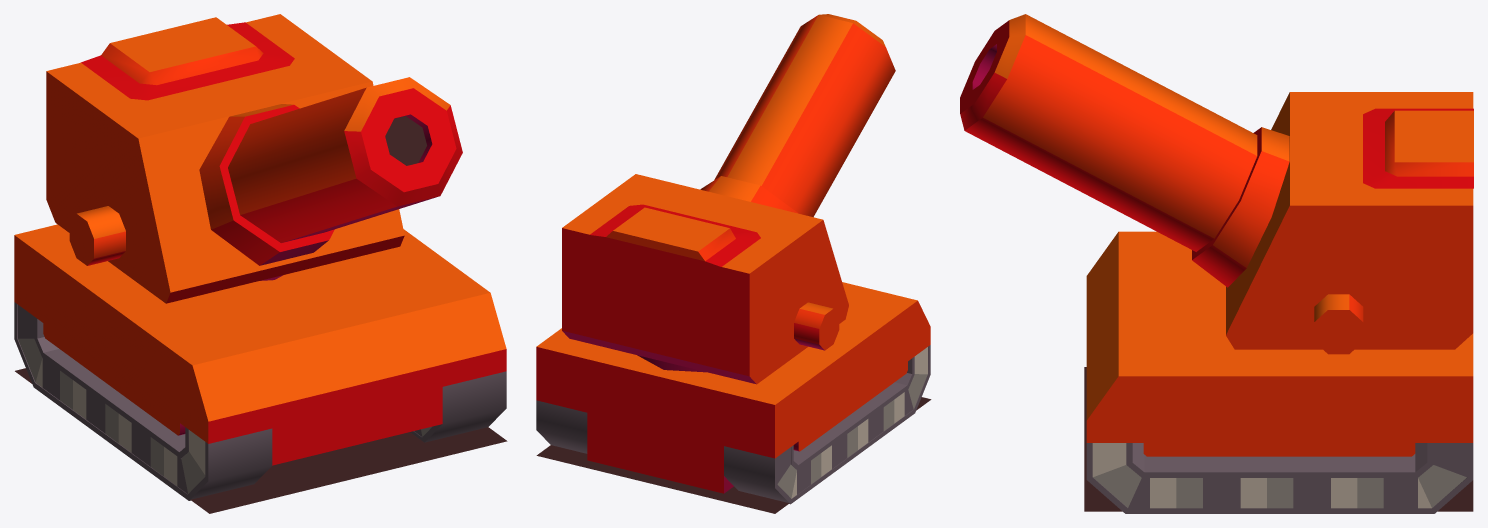
Rendered from ArtillertyMesh.OrangeStar.glb.
The picture shows the model from 3 angles, left to right: view 1: azimuth 30°, elevation 25°; view 2: azimuth 150°, elevation 25°; view 3: azimuth 270°, elevation 25°; orthographic projection. The views are drawn at different scales.
Parts seen in each view (by area): view 1: ArtillertyMesh.OrangeStar; view 2: ArtillertyMesh.OrangeStar; view 3: ArtillertyMesh.OrangeStar.
Part boxes in pixels (left/top/right/bottom): ArtillertyMesh.OrangeStar: left=14, top=14, right=507, bottom=513; ArtillertyMesh.OrangeStar: left=536, top=14, right=931, bottom=513; ArtillertyMesh.OrangeStar: left=960, top=14, right=1473, bottom=513.
Bounding box in the file's own units: 1.4 × 1.88 × 2.1.
1 material, 1 textured.
